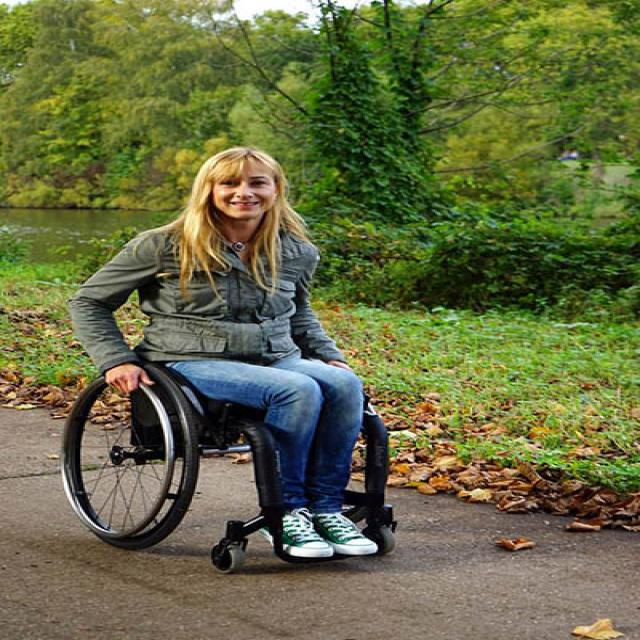wheelchairs: (48, 299, 422, 575)
